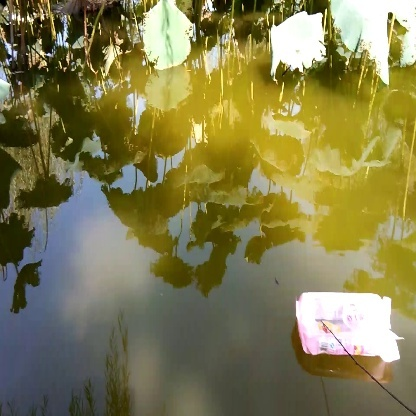plastic-bag: (292, 283, 404, 368)
